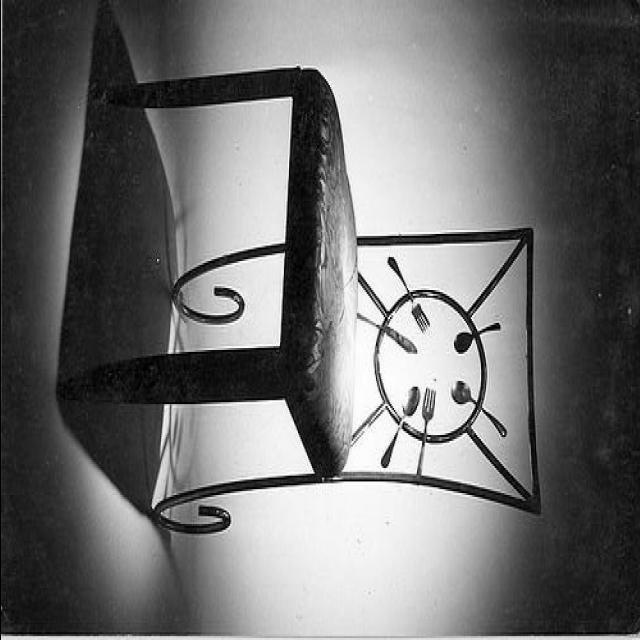chair: (47, 63, 539, 533)
